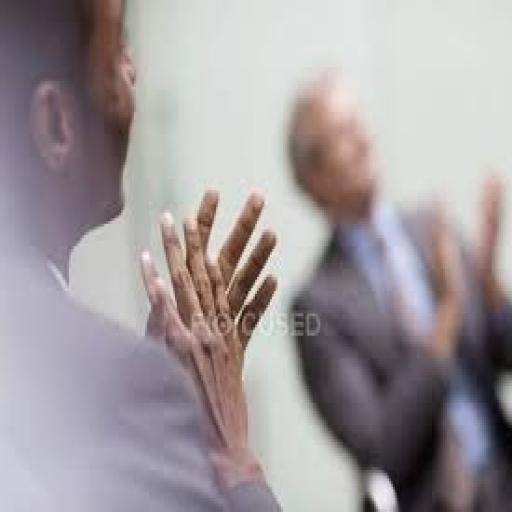clapping: (0, 0, 283, 509), (283, 64, 510, 510)
